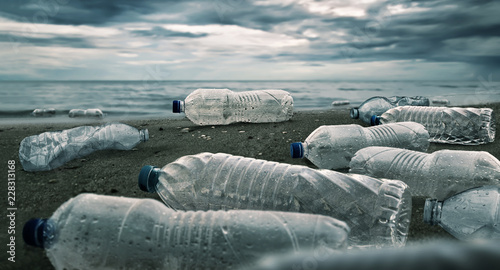plastic_bottle: (14, 185, 353, 270), (139, 143, 413, 248), (351, 139, 500, 200), (17, 111, 151, 168), (289, 113, 436, 164), (167, 76, 298, 130), (370, 94, 500, 144), (350, 86, 454, 124), (66, 102, 107, 121), (28, 100, 61, 121)
